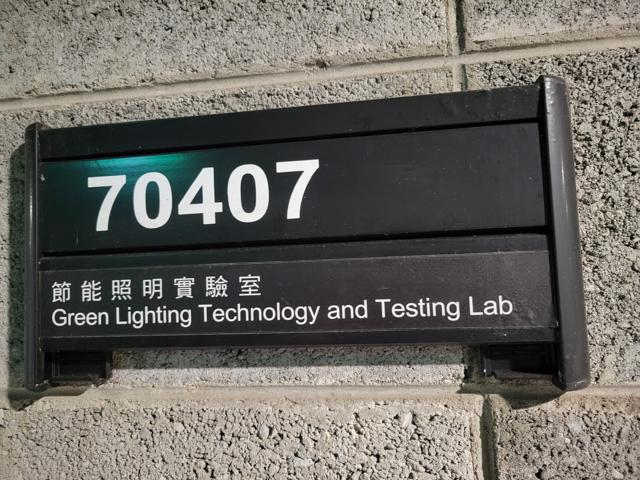doorplate: (20, 68, 598, 398)
